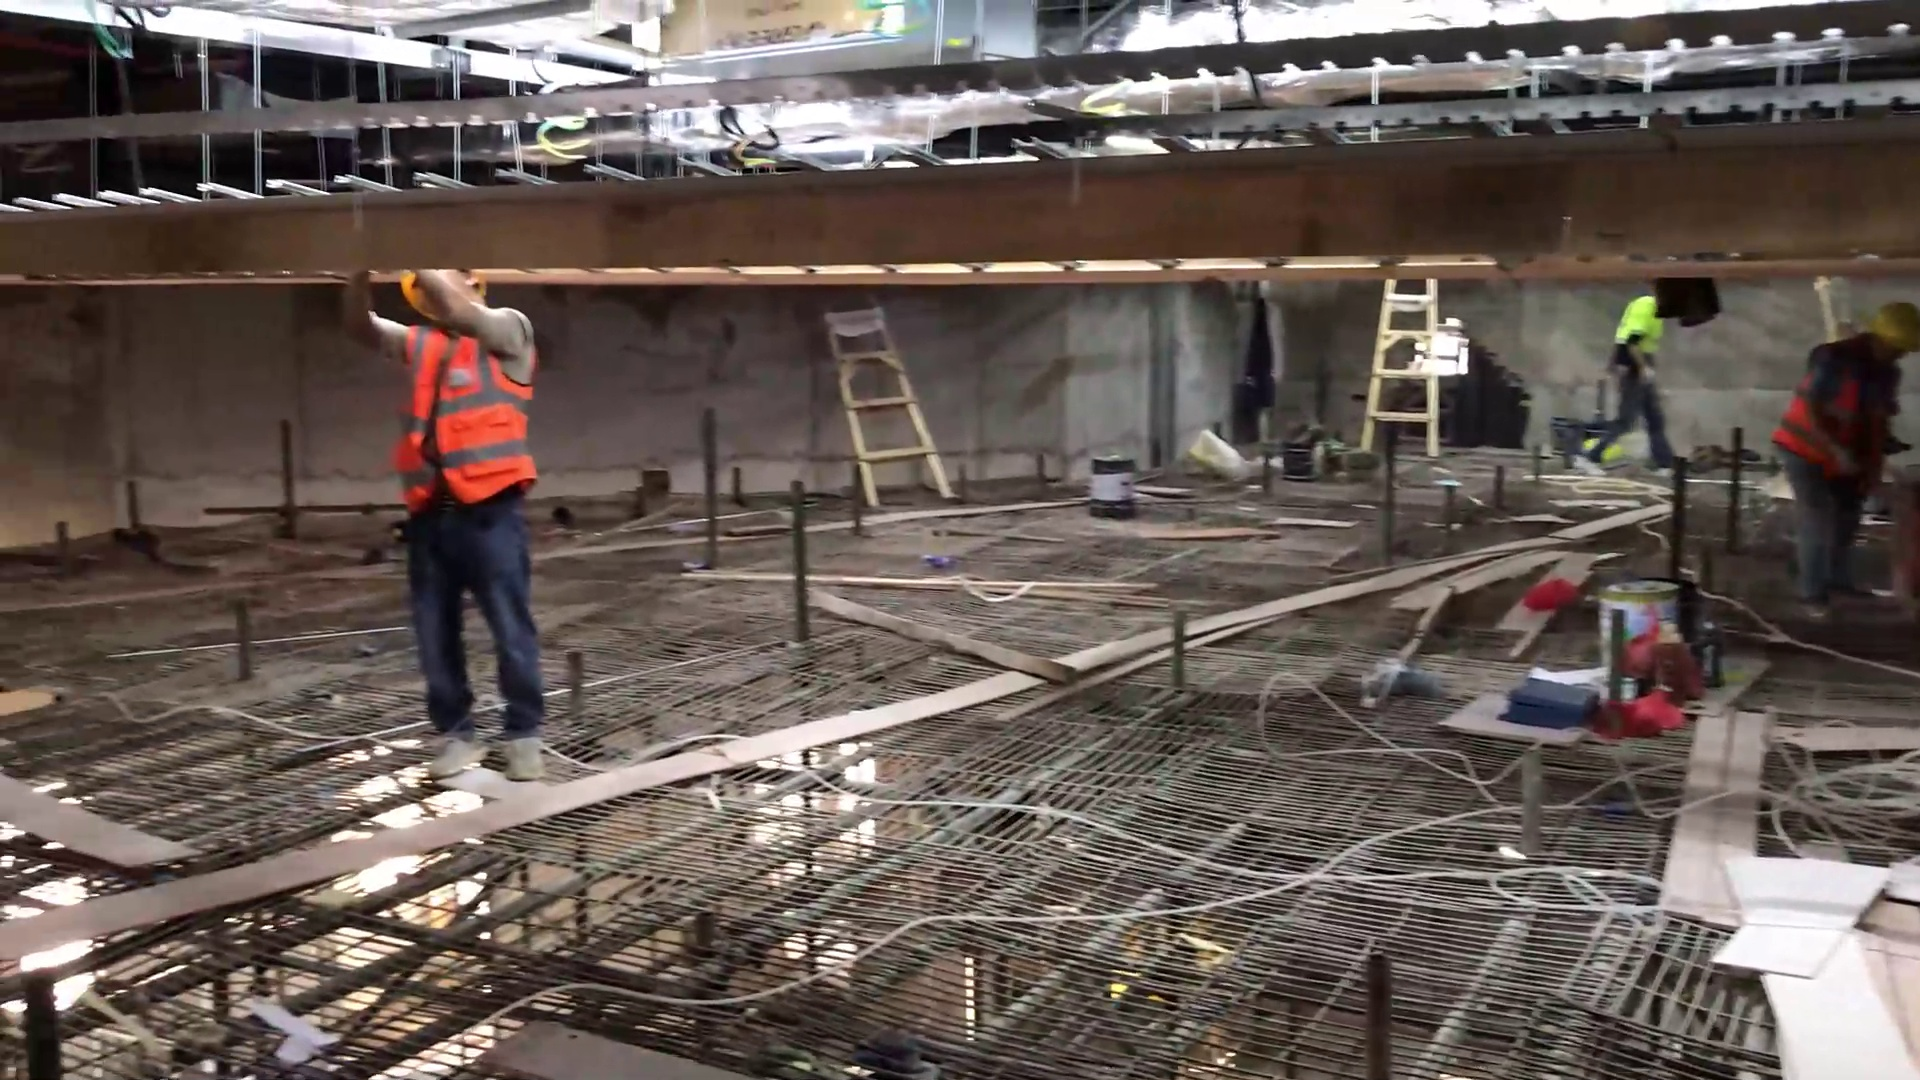helmet: (1870, 300, 1918, 340), (1585, 424, 1622, 468)
person: (341, 241, 557, 775), (1772, 287, 1905, 628), (1606, 279, 1686, 483)
vest: (404, 318, 536, 499), (1780, 341, 1891, 478)
